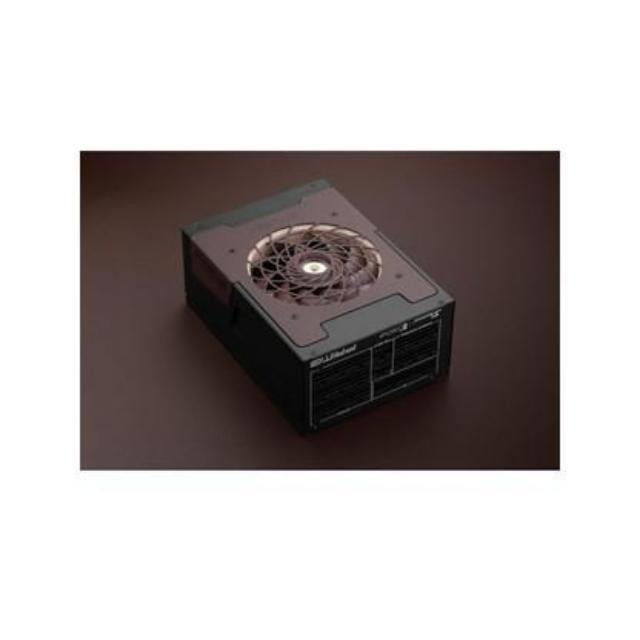PSU: (177, 174, 469, 440)
